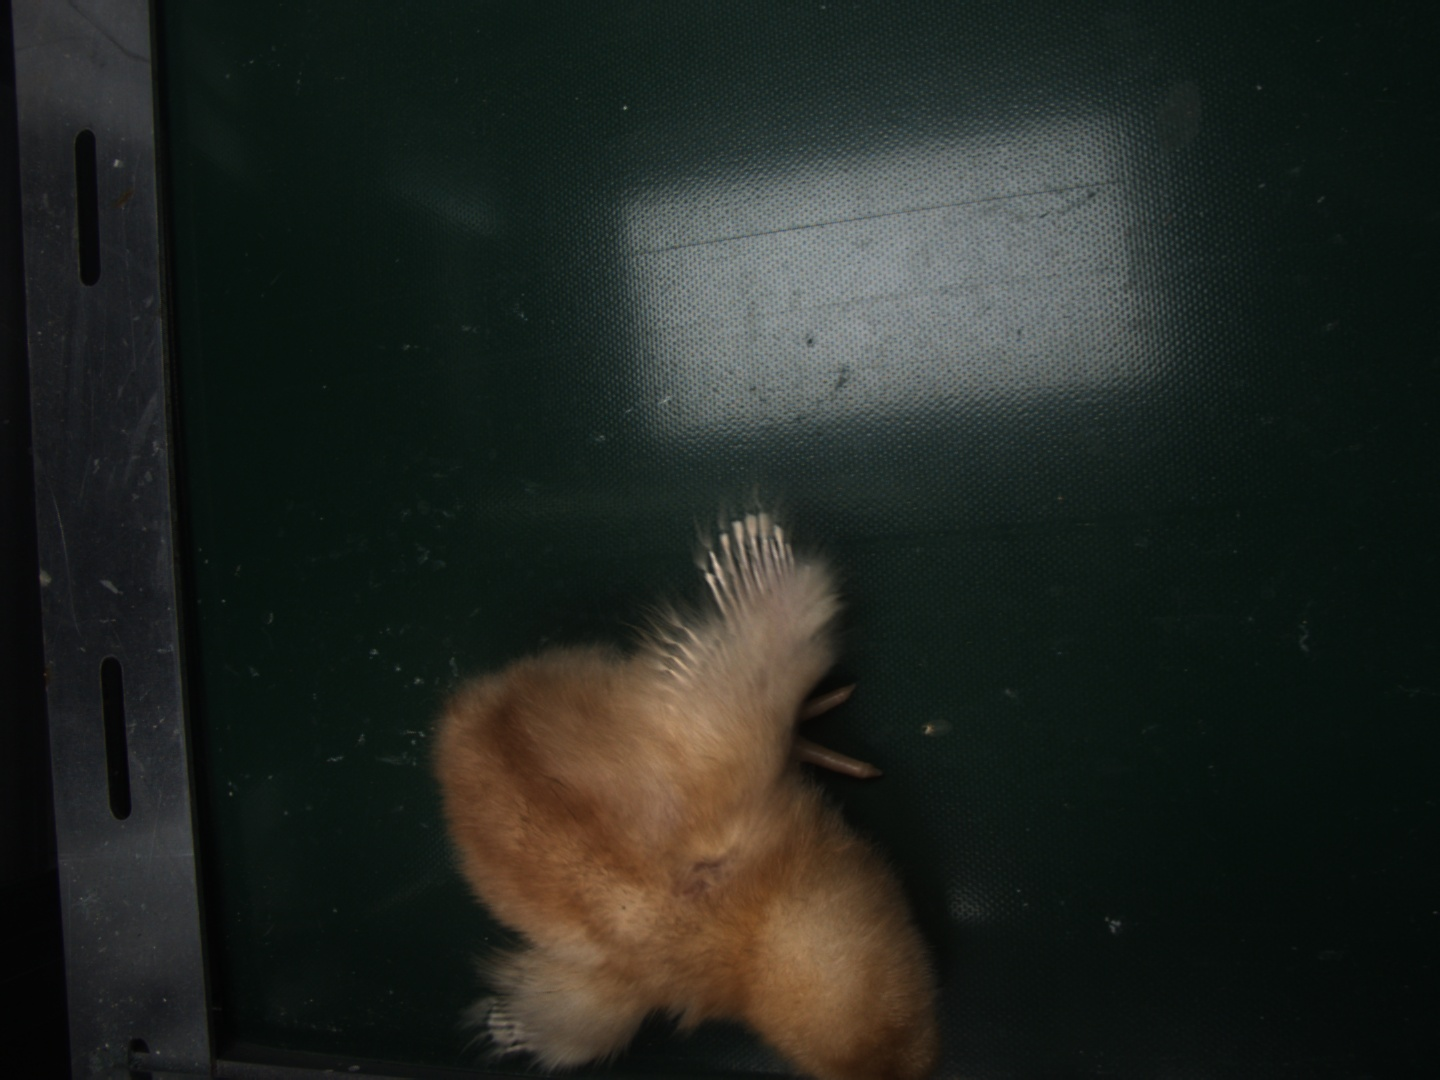female: (702, 514, 799, 625)
